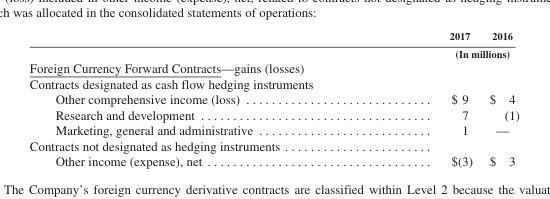table: (28, 29, 518, 168)
table column: (28, 29, 350, 168), (350, 29, 480, 168), (480, 29, 518, 168)
table column header: (28, 29, 518, 59)
table projected row header: (28, 59, 518, 75), (28, 75, 518, 91), (28, 137, 518, 153)
table row: (28, 59, 518, 75), (28, 75, 518, 91), (28, 106, 518, 122), (28, 137, 518, 153), (28, 29, 518, 44), (28, 44, 518, 59), (28, 91, 518, 106), (28, 122, 518, 137), (28, 153, 518, 168)
table spanning cell: (350, 44, 518, 59)
